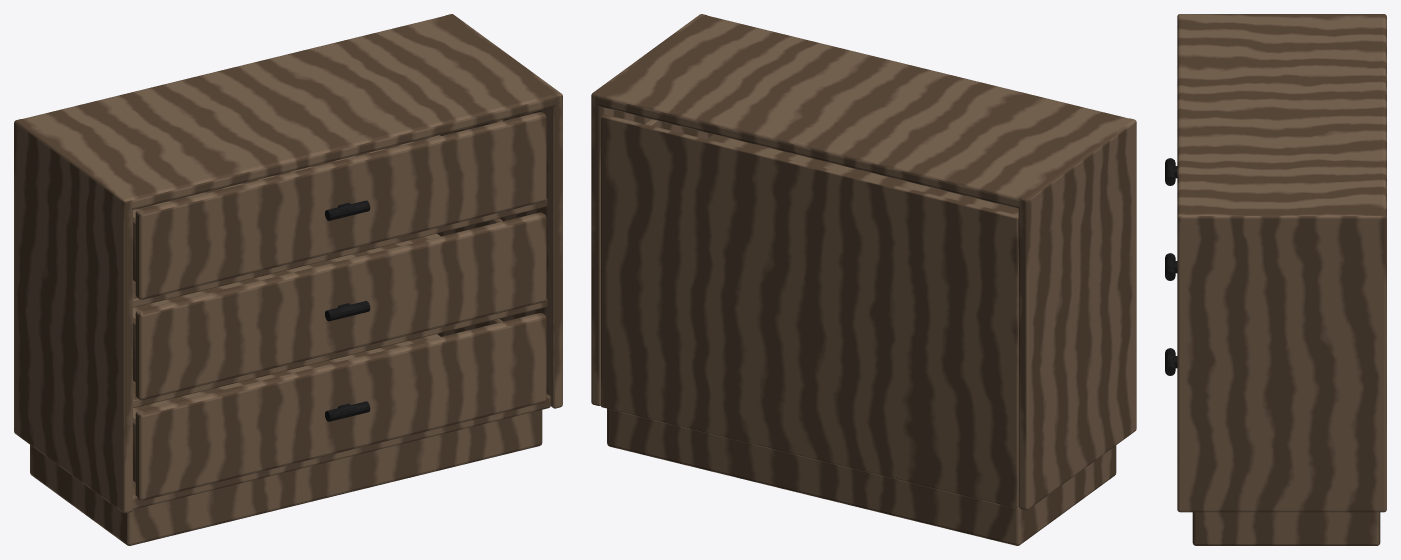
File: FUR_Dresser.fbx
3 renders of one model, left to right at view 1: azimuth 30°, elevation 25°; view 2: azimuth 150°, elevation 25°; view 3: azimuth 270°, elevation 25°, orthographic. The views are drawn at different scales.
Parts seen in each view (by area): view 1: Dresser_Body, Dresser_Drawer_Mid, Dresser_Drawer_Bot, Dresser_Drawer_Top; view 2: Dresser_Body, Dresser_Drawer_Top; view 3: Dresser_Body, Dresser_Drawer_Bot, Dresser_Drawer_Mid, Dresser_Drawer_Top.
Part boxes in pixels (bbox=[...]): Dresser_Body: bbox=[14, 14, 562, 545]; Dresser_Drawer_Mid: bbox=[133, 212, 546, 400]; Dresser_Drawer_Bot: bbox=[133, 313, 546, 500]; Dresser_Drawer_Top: bbox=[133, 112, 546, 299]; Dresser_Body: bbox=[591, 14, 1136, 545]; Dresser_Drawer_Top: bbox=[645, 119, 1018, 215]; Dresser_Body: bbox=[1177, 14, 1386, 545]; Dresser_Drawer_Bot: bbox=[1165, 348, 1177, 375]; Dresser_Drawer_Mid: bbox=[1165, 253, 1177, 280]; Dresser_Drawer_Top: bbox=[1165, 158, 1177, 185].
Bounding box in the file's own units: 110 × 85 × 50.8.
